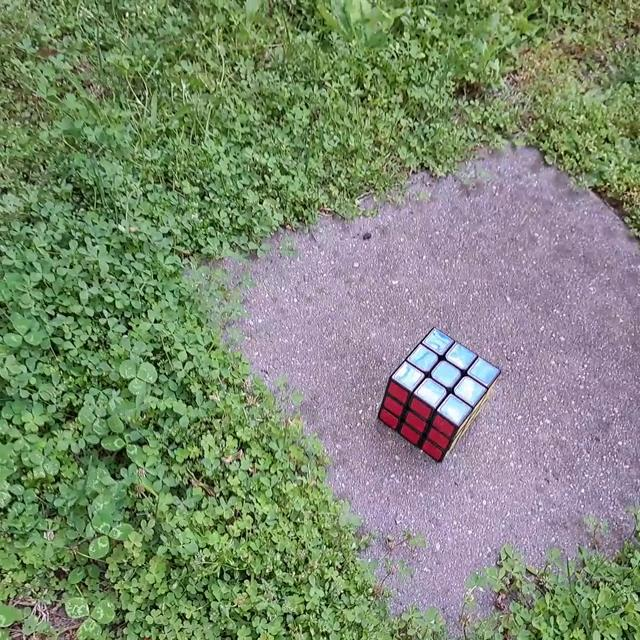rubix_cube: (377, 324, 502, 464)
